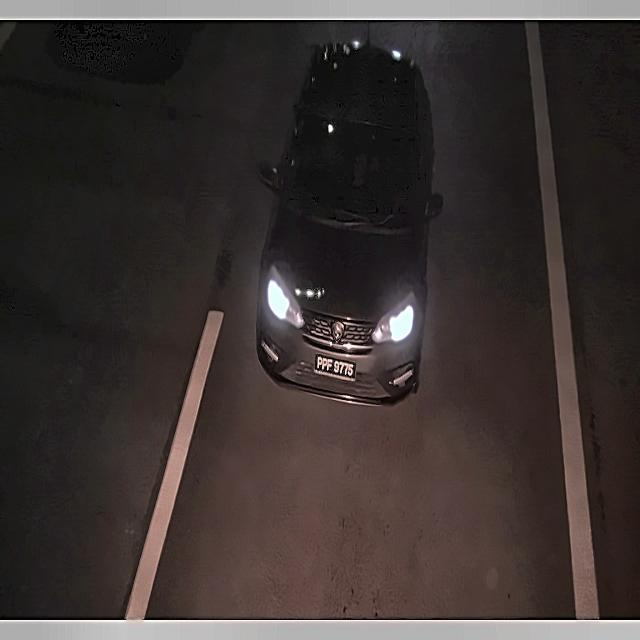car: (310, 349, 359, 388)
